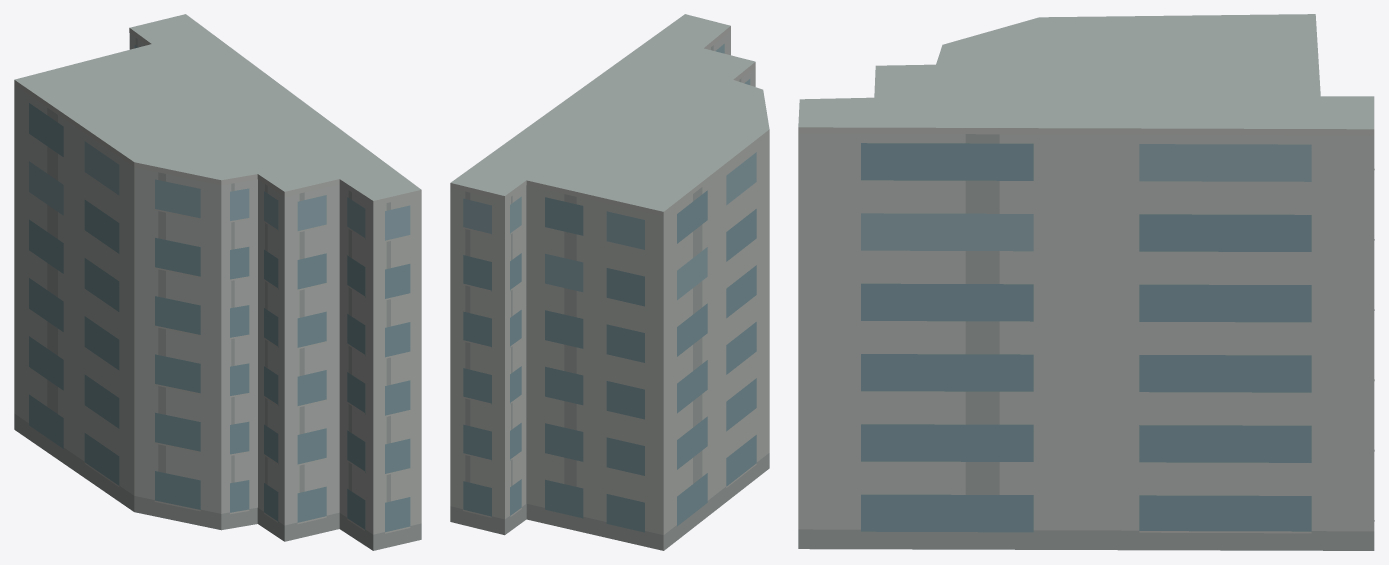
File: survey-upis-32576507.glb
3 renders of one model, left to right at view 1: azimuth 30°, elevation 25°; view 2: azimuth 150°, elevation 25°; view 3: azimuth 270°, elevation 25°, orthographic. The views are drawn at different scales.
Parts seen in each view (by area): view 1: survey-upis-32576507.tmp; view 2: survey-upis-32576507.tmp; view 3: survey-upis-32576507.tmp.
Boxes of the visible parts, x1=… form: survey-upis-32576507.tmp: x1=14, y1=14, x2=421, y2=550; survey-upis-32576507.tmp: x1=450, y1=14, x2=769, y2=550; survey-upis-32576507.tmp: x1=798, y1=14, x2=1374, y2=550.
Bounding box in the file's own units: 9.68 × 16.5 × 20.45.
